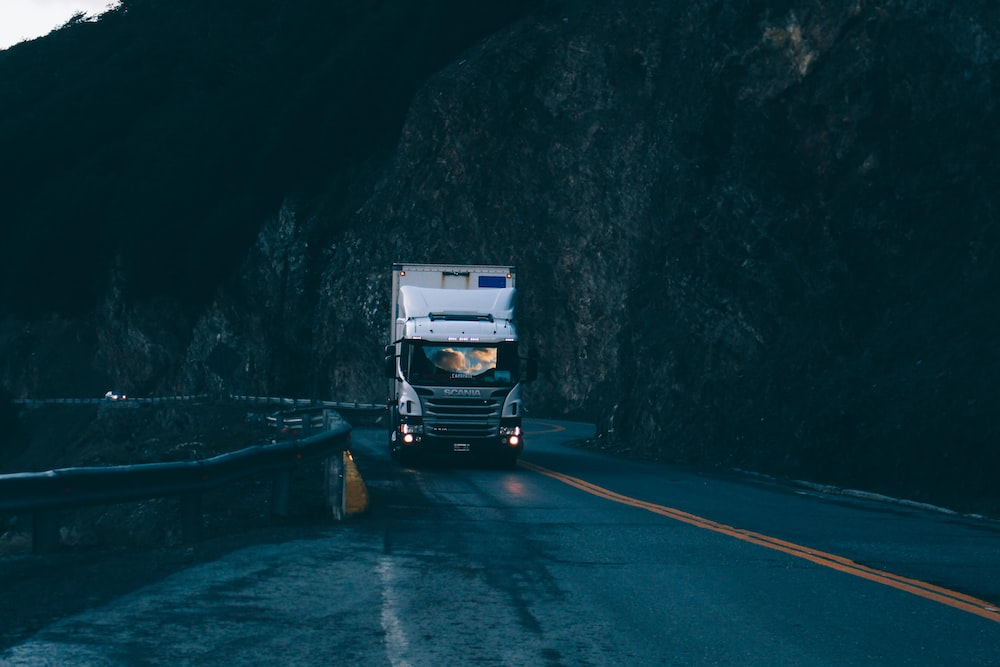truck: (389, 260, 526, 455)
